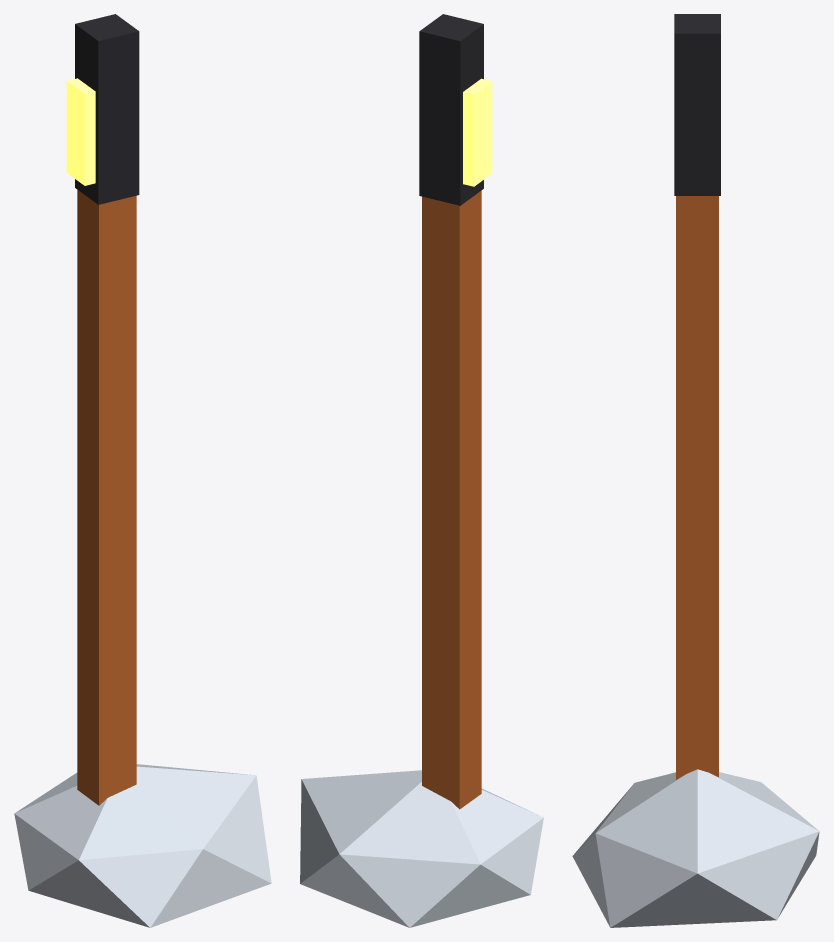
Rendered from snow_pole.glb.
3 renders of one model, left to right at view 1: azimuth 30°, elevation 25°; view 2: azimuth 150°, elevation 25°; view 3: azimuth 270°, elevation 25°, orthographic.
Parts seen in each view (by area): view 1: snow_pole; view 2: snow_pole; view 3: snow_pole.
Boxes of the visible parts, <box> form: snow_pole: <box>14,14,271,927</box>; snow_pole: <box>300,14,543,927</box>; snow_pole: <box>572,14,819,927</box>.
Size of the model in its own units: 0.7288 by 2.69 by 0.6894.
